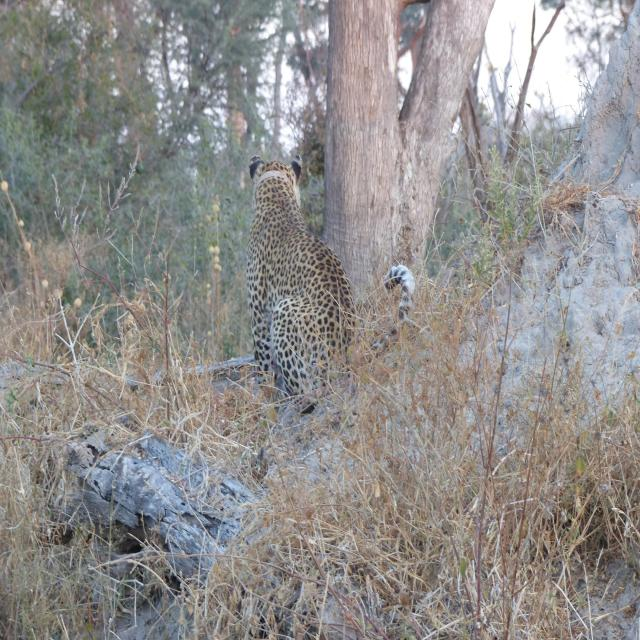Leopard: (226, 166, 407, 432)
